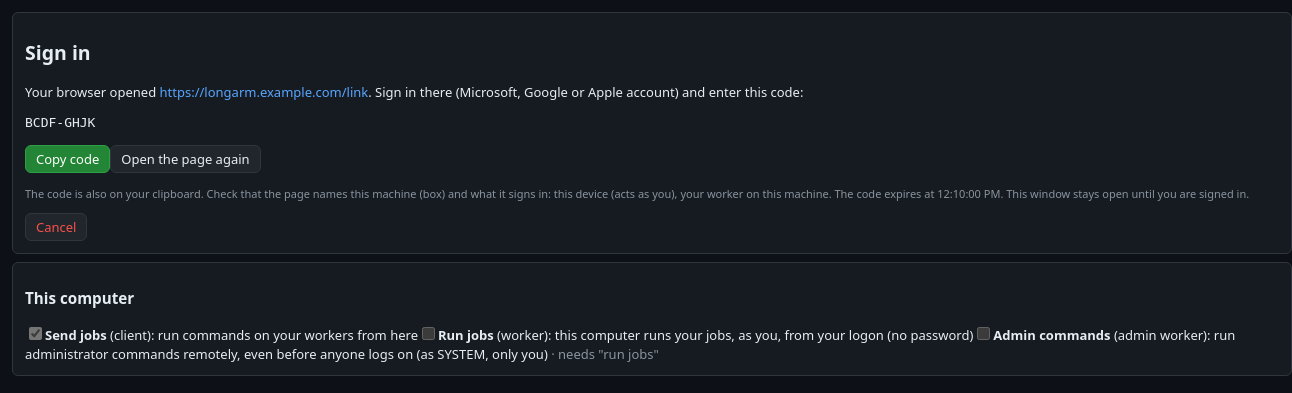
Scenario: AccountTab roles › shows the running code large with Copy, and the summary when done
Expected: the text with test id "signin-code" reads "BCDF-GHJK", [25, 115, 96, 130]
Click the button with test id "signin-copy": x=68, y=159 [25, 145, 110, 173]
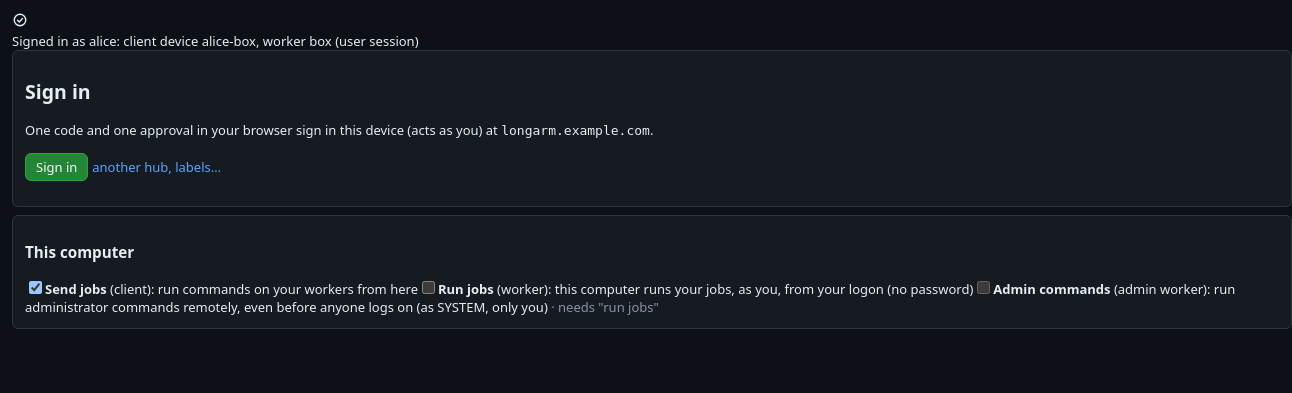
Expected: the text with test id "signin-done" reads "Signed in as alice: client device alice-box, worker box (user session)", [12, 32, 418, 50]
